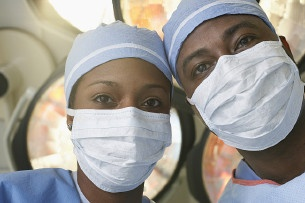Mask: (66, 77, 181, 192)
